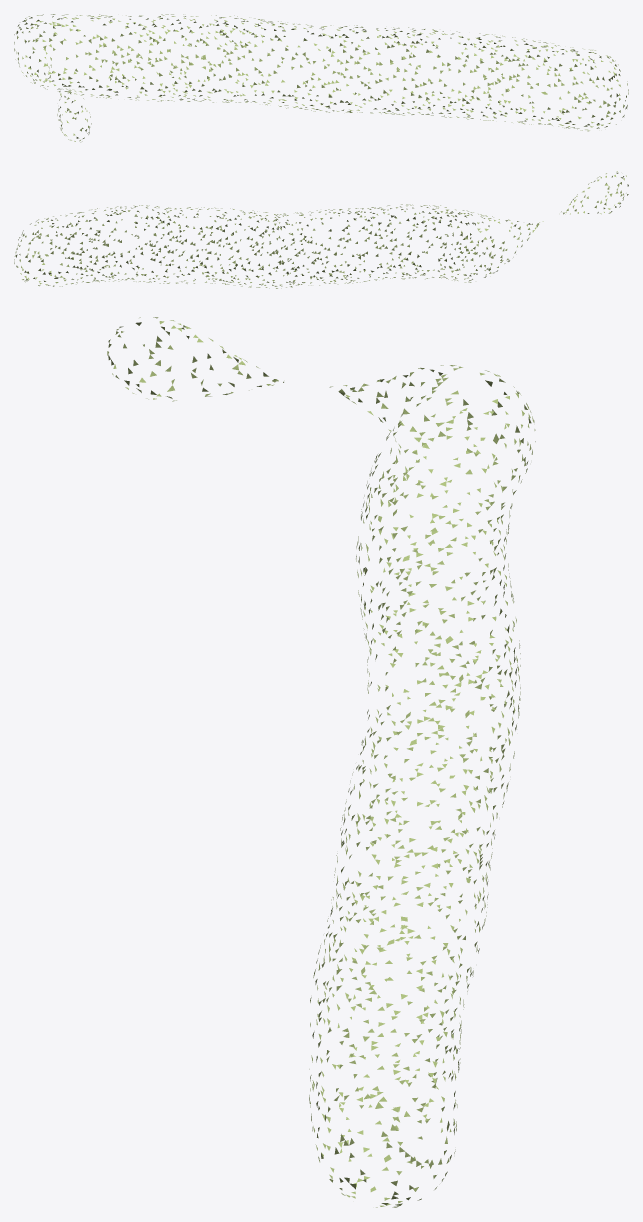
File: morph_011.glb
The picture shows the model from 3 angles, top to bottom: view 1: azimuth 30°, elevation 25°; view 2: azimuth 150°, elevation 25°; view 3: azimuth 270°, elevation 25°; orthographic projection. The views are drawn at different scales.
Bounding box in the file's own units: 124 × 42.2 × 42.46.
